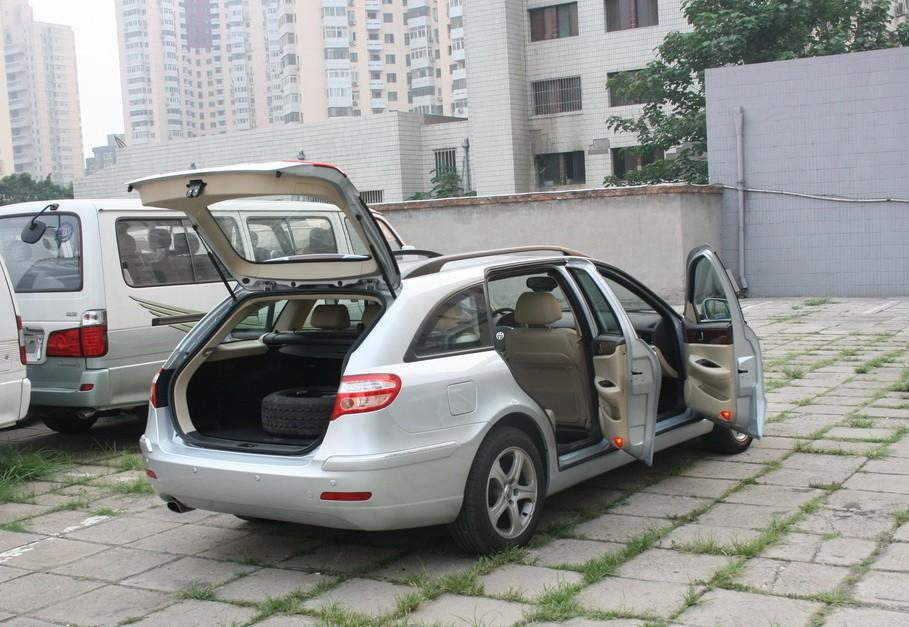Wagon: (124, 160, 767, 558)
